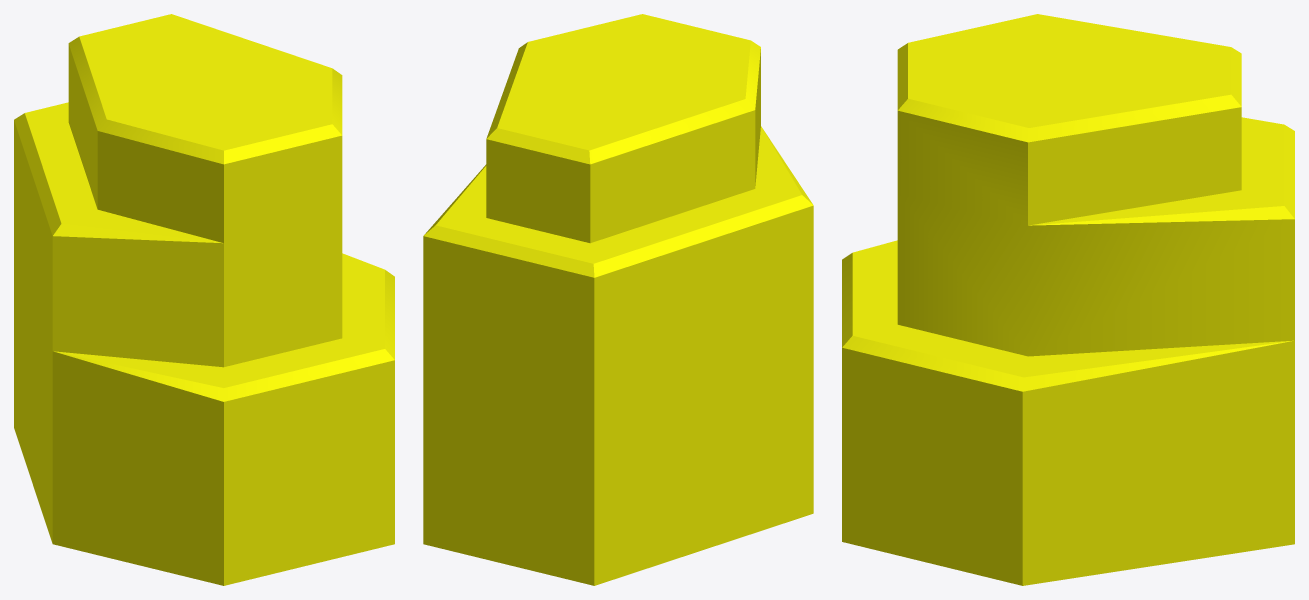
The model's file is kaykit-rock-1-e-color-1.glb.
3 renders of one model, left to right at view 1: azimuth 30°, elevation 25°; view 2: azimuth 150°, elevation 25°; view 3: azimuth 270°, elevation 25°, orthographic. The views are drawn at different scales.
Parts seen in each view (by area): view 1: Rock_1_E_Color1; view 2: Rock_1_E_Color1; view 3: Rock_1_E_Color1.
Part boxes in pixels (x1,y1,x2,y2): Rock_1_E_Color1: (14, 14, 394, 585); Rock_1_E_Color1: (423, 14, 813, 585); Rock_1_E_Color1: (842, 14, 1294, 585).
Bounding box in the file's own units: 1 × 1.13 × 1.09.
